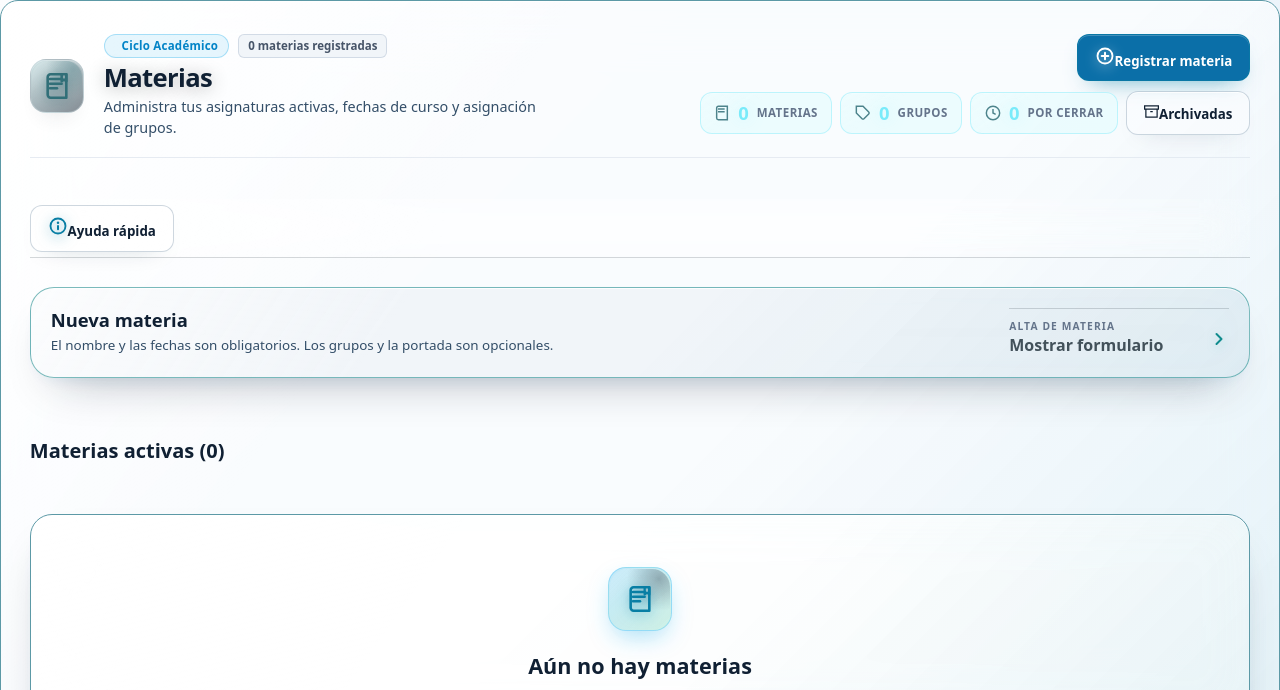
Test case: SeccionPeriodos edición › explica visiblemente el formato de grupos y conserva un estado vacío claro
Expected: the heading "Aún no hay materias" is shown, [528,651,752,681]
Click the button "Registrar materia" at (1163, 57), box [1077,34,1250,81]
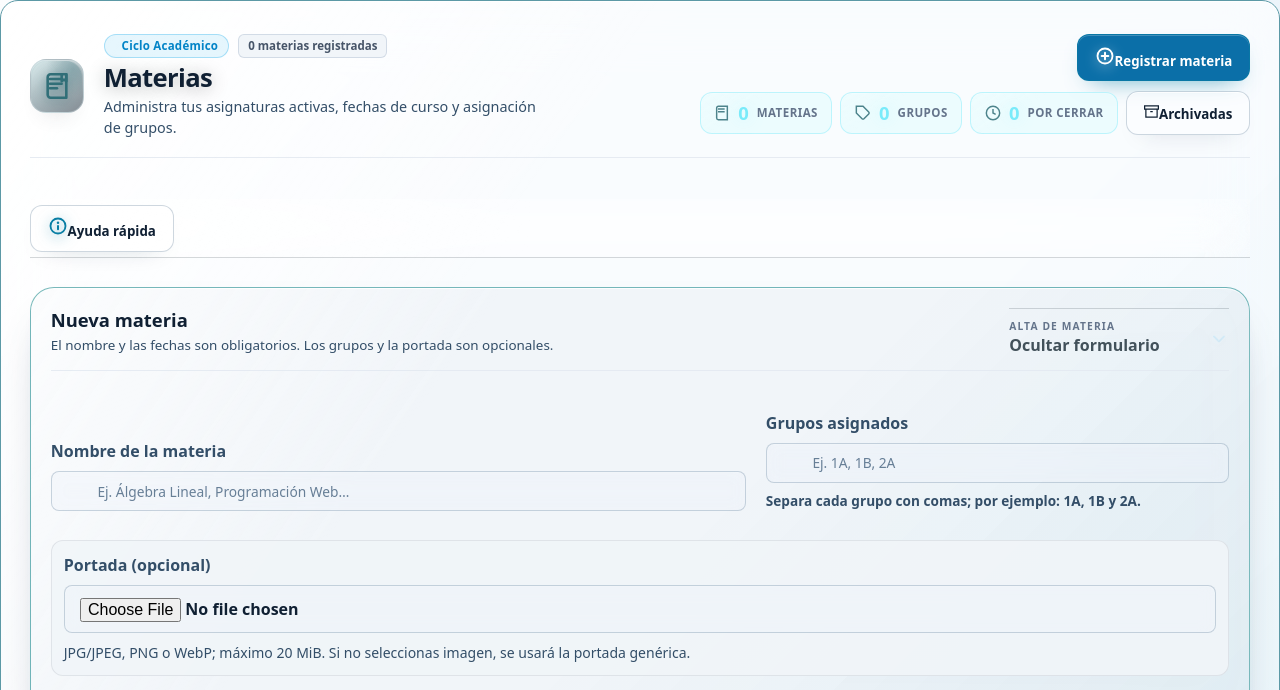
Expected: the text "El nombre y las fechas son obligatorios. Los grupos y la portada son opcionales." is shown, [51,336,554,354]
Result: the text "Separa cada grupo con comas; por ejemplo: 1A, 1B y 2A." is shown at [766,491,1141,510]
